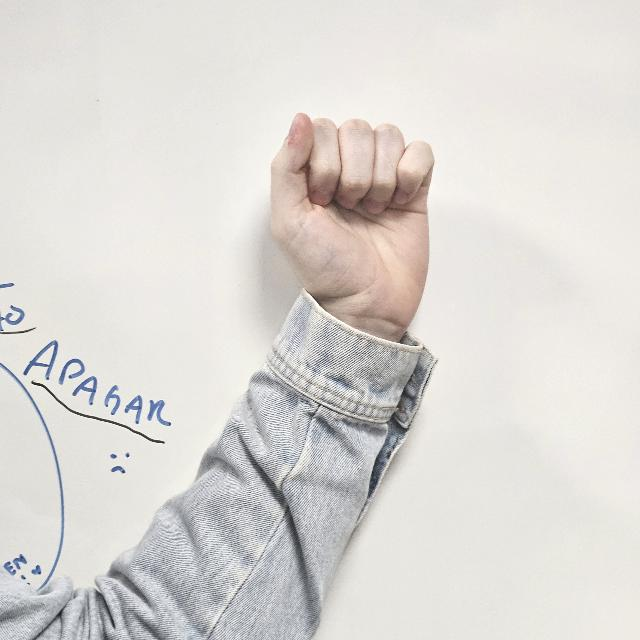Quadro: (268, 104, 434, 328)
